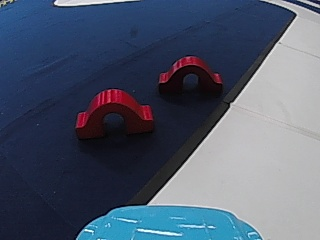bridge: (69, 83, 156, 138), (154, 52, 222, 96)
